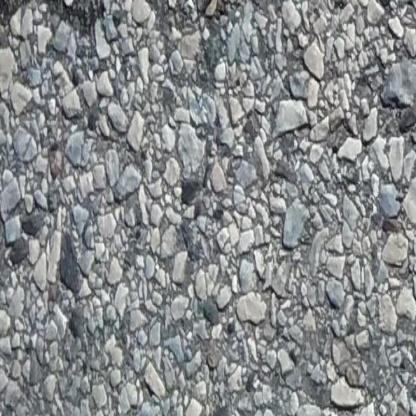Cracks: (0, 0, 290, 36)
